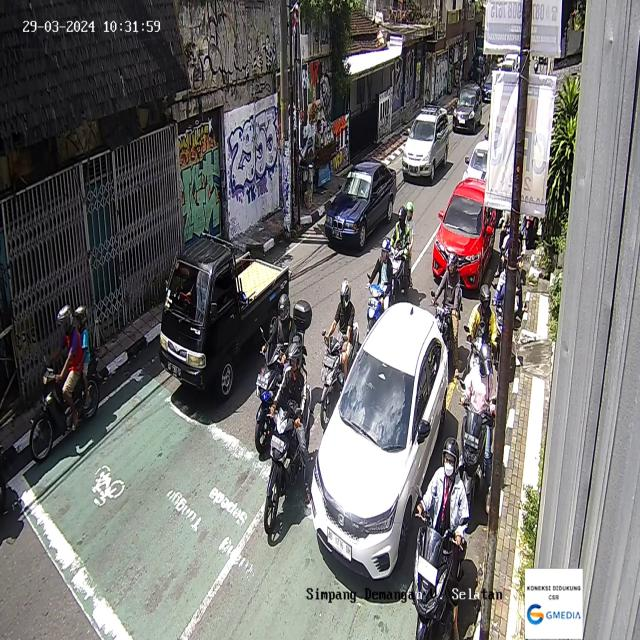car: (310, 300, 449, 582), (432, 177, 496, 290), (324, 160, 397, 249), (402, 104, 449, 183), (452, 82, 483, 134)
motorcycle: (29, 301, 102, 462), (410, 438, 468, 639), (254, 293, 310, 452), (263, 342, 309, 534), (456, 345, 498, 517), (319, 279, 360, 433), (430, 252, 463, 354), (462, 282, 498, 375), (365, 237, 394, 336), (390, 199, 415, 296)
truck: (159, 230, 290, 400)
